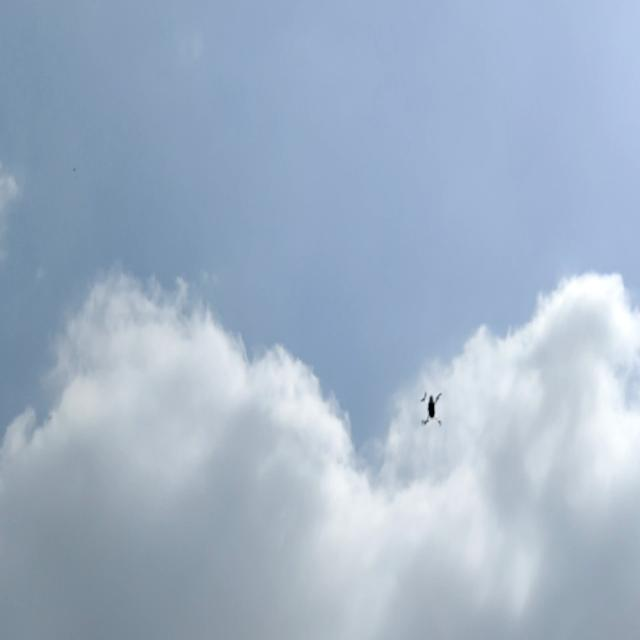drone: (416, 386, 447, 430)
